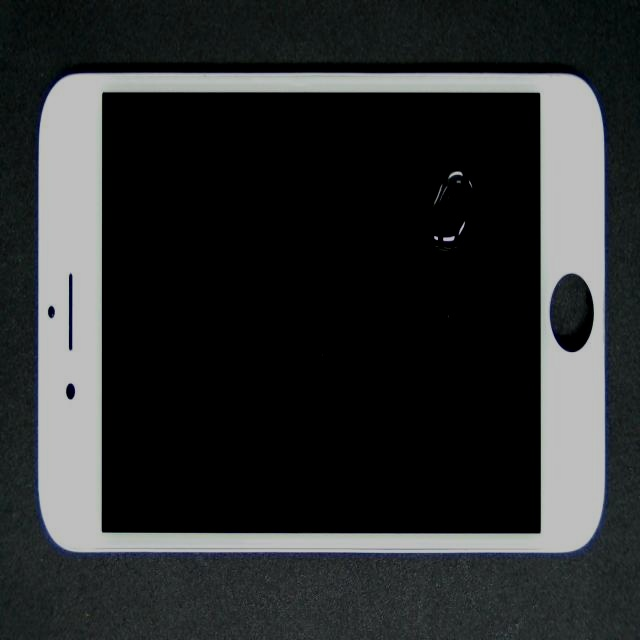oil: (211, 79, 640, 331)
